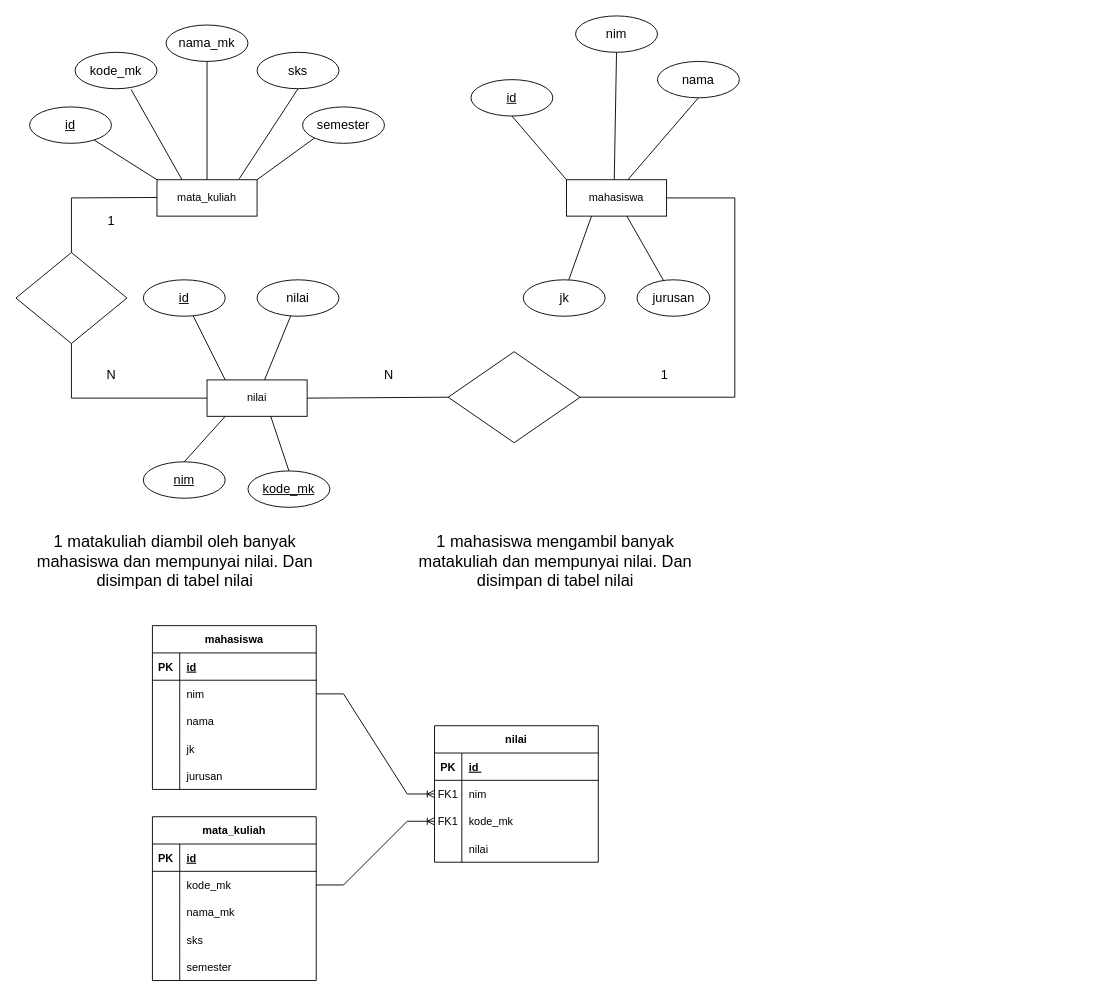
Some shapes in this 1104 by 996 pixel diagram are drawn without their labels. The centre of each missing label's shape, as x and y in pixels:
Diambil dan mempunyai: (x=71, y=298)
Mengambil dan mempunyai: (x=513, y=397)
